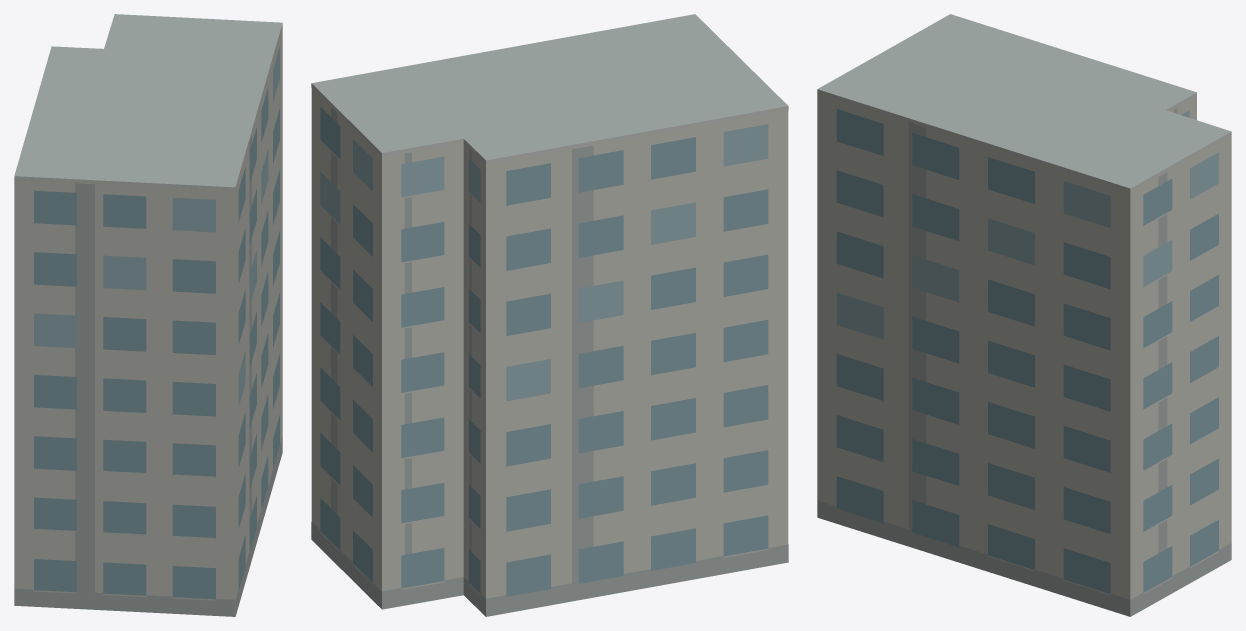
The model's file is survey-upis-32706035.glb.
The picture shows the model from 3 angles, left to right: view 1: azimuth 30°, elevation 25°; view 2: azimuth 150°, elevation 25°; view 3: azimuth 270°, elevation 25°; orthographic projection. The views are drawn at different scales.
Parts seen in each view (by area): view 1: survey-upis-32706035.tmp; view 2: survey-upis-32706035.tmp; view 3: survey-upis-32706035.tmp.
Boxes of the visible parts, box(x1,y1,x2,y2) form: survey-upis-32706035.tmp: box(14, 14, 282, 616); survey-upis-32706035.tmp: box(311, 14, 788, 616); survey-upis-32706035.tmp: box(817, 14, 1231, 616).
Size of the model in its own units: 22.29 by 25.5 by 22.37.
